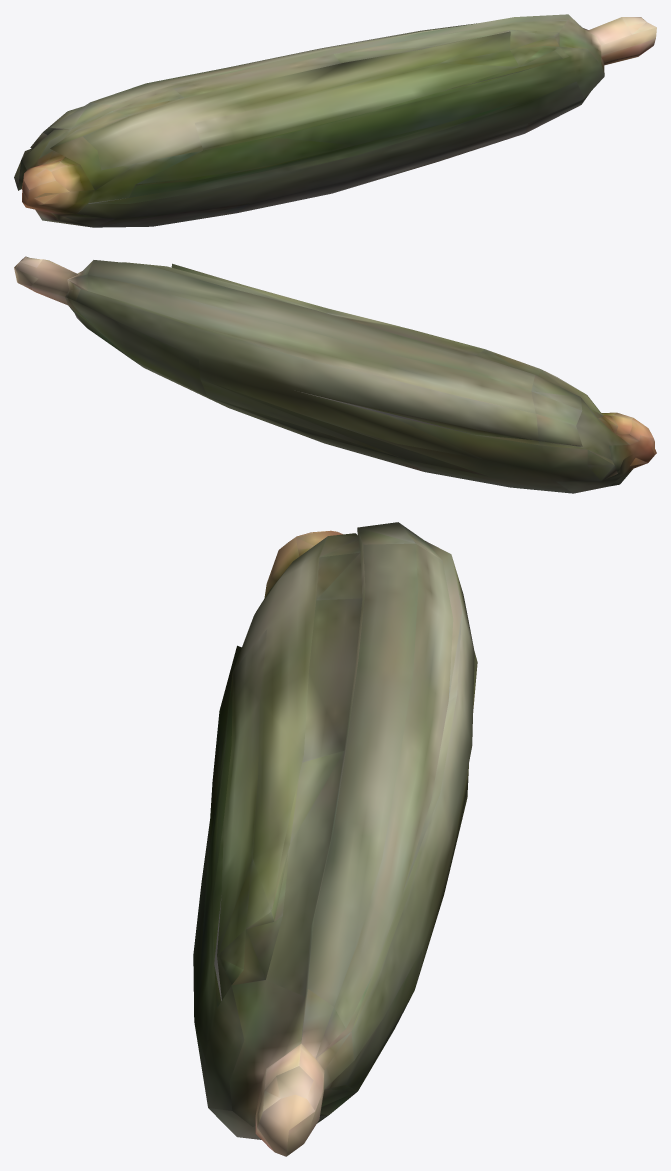
File: cucumber.glb
3 views of the same model, one above another, from view 1: azimuth 30°, elevation 25°; view 2: azimuth 150°, elevation 25°; view 3: azimuth 270°, elevation 25° (orthographic). The views are drawn at different scales.
Parts seen in each view (by area): view 1: Cucumber; view 2: Cucumber; view 3: Cucumber.
Boxes of the visible parts, x1=… form: Cucumber: x1=14, y1=14, x2=656, y2=227; Cucumber: x1=14, y1=256, x2=656, y2=493; Cucumber: x1=193, y1=522, x2=477, y2=1156.
Size of the model in its own units: 2.1 by 0.416 by 0.4125.
Materials: 1 (1 with a texture image).
